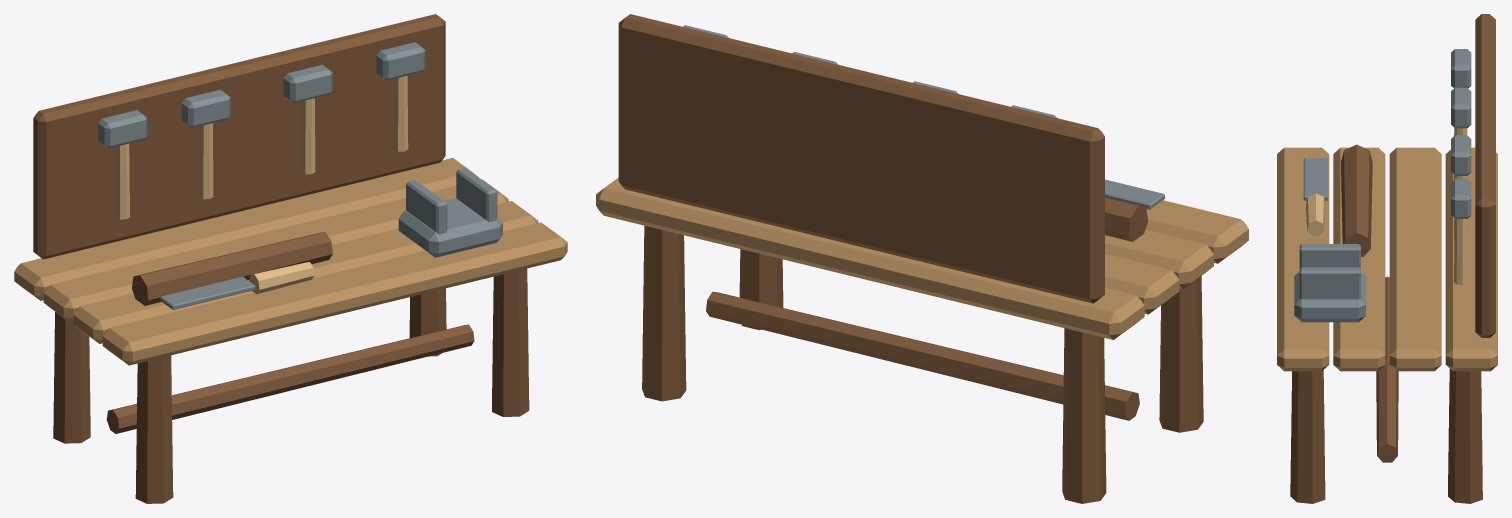
The model's file is CC_Workshop.fbx.
3 renders of one model, left to right at view 1: azimuth 30°, elevation 25°; view 2: azimuth 150°, elevation 25°; view 3: azimuth 270°, elevation 25°, orthographic. The views are drawn at different scales.
Visible parts, largest first — view 1: Backboard, Plank.016, Plank.019, Brace.004, Plank.018, Plank.017, Uncut twig, Leg.020, Leg.022, Leg.021, Vise base, Leg.023 (+12 smaller); view 2: Backboard, Plank.019, Brace.004, Leg.021, Leg.023, Leg.020, Plank.016, Plank.017, Plank.018, Leg.022, Uncut twig, Saw blade; view 3: Plank.018, Plank.016, Backboard, Plank.017, Plank.019, Leg.023, Leg.022, Uncut twig, Brace.004, Vise jaw.001, Vise base, Vise jaw (+7 smaller).
Boxes of the visible parts, box(x1,y1,x2,y2) form: Backboard: box(33, 14, 445, 259); Plank.016: box(102, 222, 567, 365); Plank.019: box(14, 158, 478, 300); Brace.004: box(106, 324, 474, 433); Plank.018: box(43, 179, 508, 322); Plank.017: box(73, 201, 538, 343); Uncut twig: box(132, 232, 332, 305); Leg.020: box(135, 355, 173, 503); Leg.022: box(492, 268, 529, 416); Leg.021: box(53, 312, 90, 443); Vise base: box(398, 198, 502, 257); Leg.023: box(409, 288, 446, 356); Backboard: box(618, 14, 1104, 303); Plank.019: box(596, 177, 1144, 339); Brace.004: box(706, 291, 1139, 420); Leg.021: box(1062, 328, 1106, 503); Leg.023: box(642, 225, 686, 401); Leg.020: box(1159, 276, 1203, 432); Plank.016: box(1145, 200, 1248, 263); Plank.017: box(1105, 230, 1213, 288); Plank.018: box(1105, 254, 1179, 314); Leg.022: box(739, 249, 783, 330); Uncut twig: box(1105, 197, 1147, 241); Saw blade: box(1105, 179, 1164, 209); Plank.018: box(1389, 147, 1441, 371); Plank.016: box(1277, 147, 1329, 371); Backboard: box(1475, 14, 1495, 337); Plank.017: box(1333, 147, 1385, 371); Plank.019: box(1445, 147, 1497, 371); Leg.023: box(1448, 369, 1482, 503); Leg.022: box(1290, 370, 1325, 503); Uncut twig: box(1341, 144, 1372, 256); Brace.004: box(1376, 276, 1398, 462); Vise jaw.001: box(1299, 267, 1360, 299); Vise base: box(1294, 271, 1365, 322); Vise jaw: box(1299, 244, 1360, 268).
Bounding box in the file's own units: 2.4 × 1.65 × 1.08.
